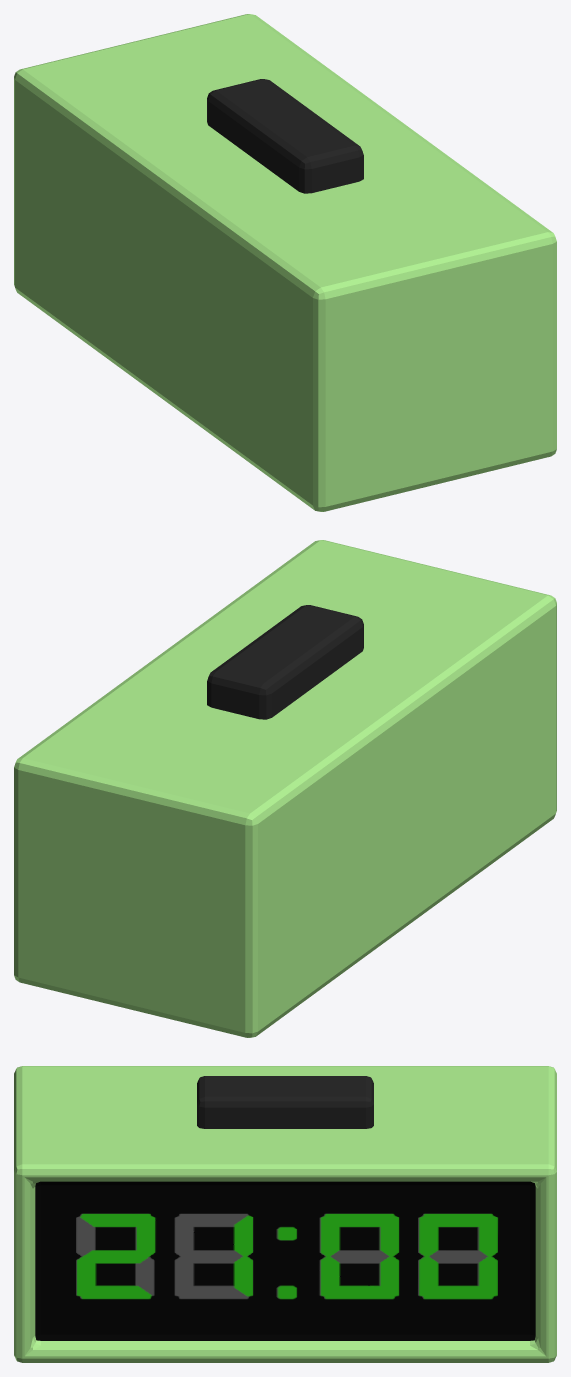
Rendered from 디지털시계.fbx.
The picture shows the model from 3 angles, top to bottom: view 1: azimuth 30°, elevation 25°; view 2: azimuth 150°, elevation 25°; view 3: azimuth 270°, elevation 25°; orthographic projection. The views are drawn at different scales.
Parts seen in each view (by area): view 1: Cube; view 2: Cube; view 3: Cube.
Part boxes in pixels (x1,y1,x2,y2): Cube: (14, 14, 556, 511); Cube: (14, 540, 556, 1037); Cube: (14, 1066, 556, 1362).
Bounding box in the file's own units: 243 × 245 × 531.
Materials: 3 (1 with a texture image).
